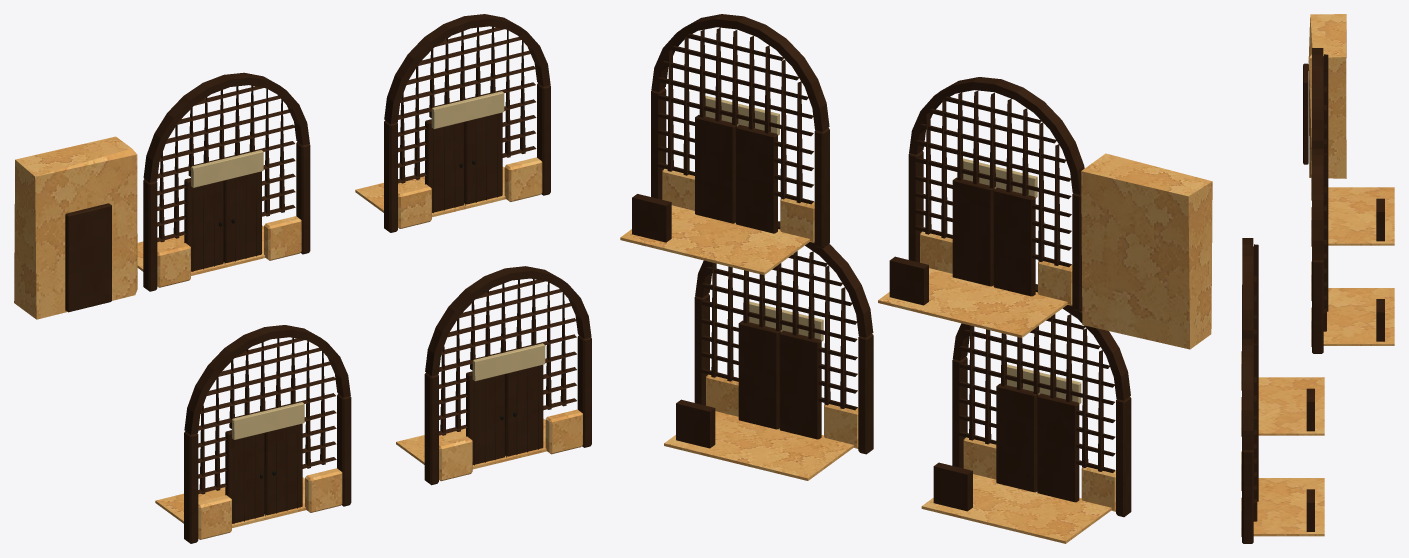
Rendered from yanan-object.glb.
3 views of the same model, side by side, from view 1: azimuth 30°, elevation 25°; view 2: azimuth 150°, elevation 25°; view 3: azimuth 270°, elevation 25° (orthographic). The views are drawn at different scales.
Parts seen in each view (by area): view 1: yanan-object-complete-environment; view 2: yanan-object-complete-environment; view 3: yanan-object-complete-environment.
Boxes of the visible parts, x1=… form: yanan-object-complete-environment: x1=14, y1=14, x2=591, y2=543; yanan-object-complete-environment: x1=620, y1=14, x2=1212, y2=543; yanan-object-complete-environment: x1=1241, y1=14, x2=1394, y2=543.
Bounding box in the file's own units: 1 × 0.7671 × 0.2998.
5 materials, 5 textured.
